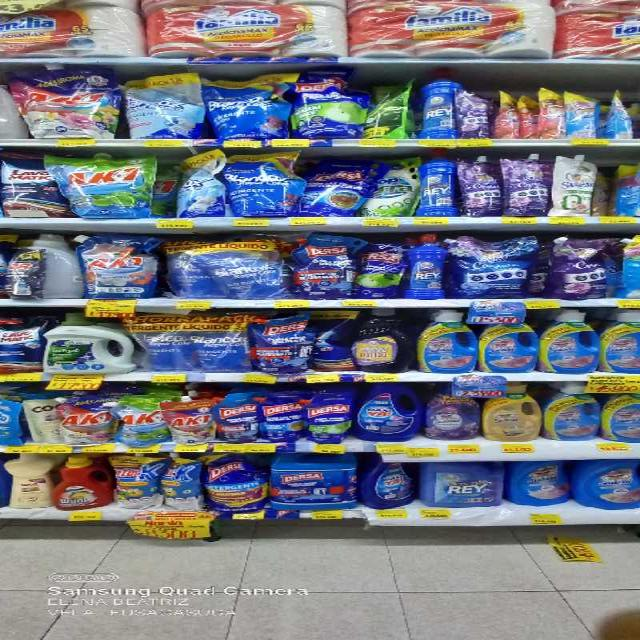Jabon_rey: (424, 462, 505, 511)
